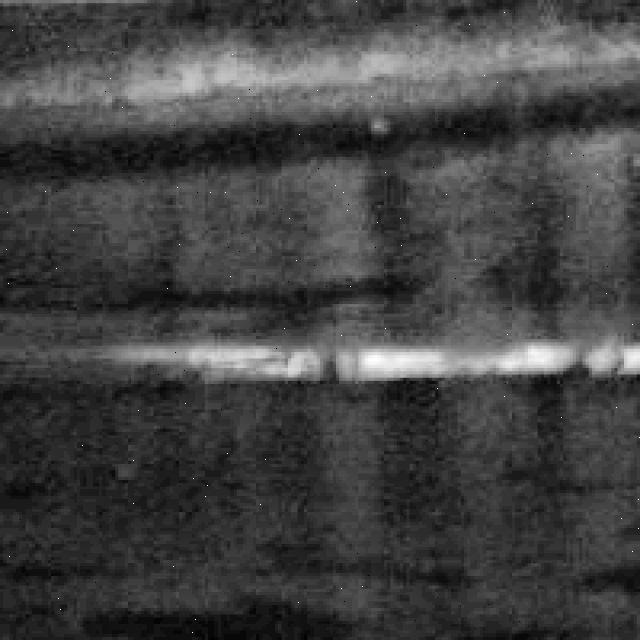Inclusion: (163, 330, 640, 384)
